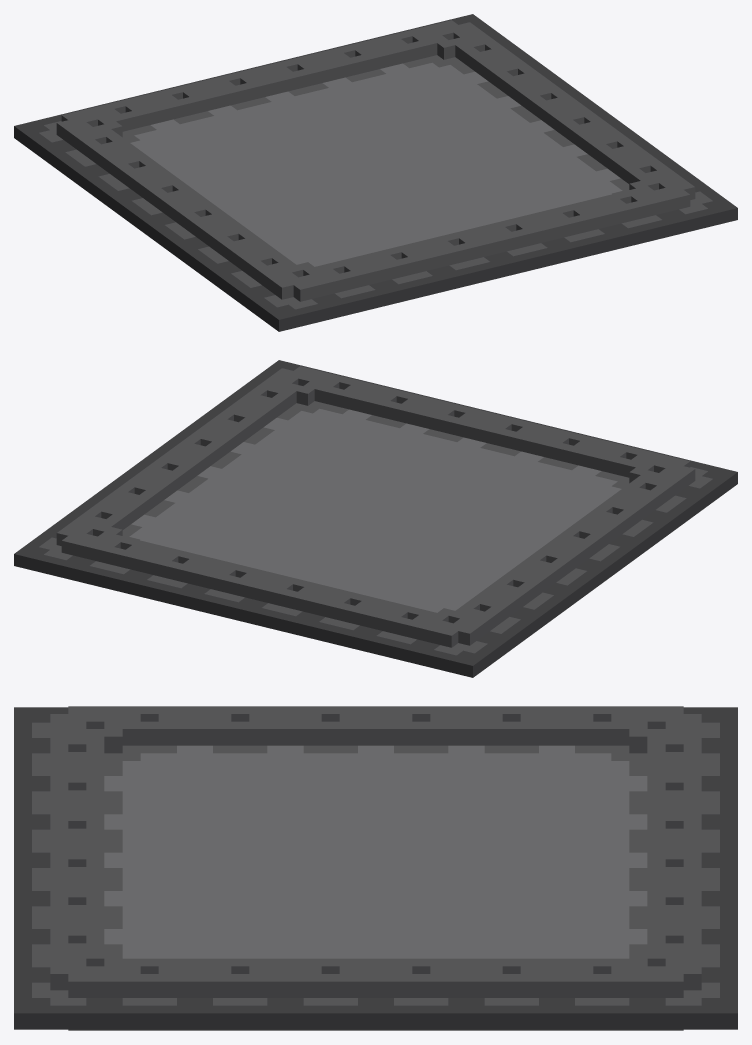
The model's file is Architeture1-5.obj.
3 renders of one model, top to bottom at view 1: azimuth 30°, elevation 25°; view 2: azimuth 150°, elevation 25°; view 3: azimuth 270°, elevation 25°, orthographic. The views are drawn at different scales.
Size of the model in its own units: 4 by 0.3 by 4.
1 material, 1 textured.
